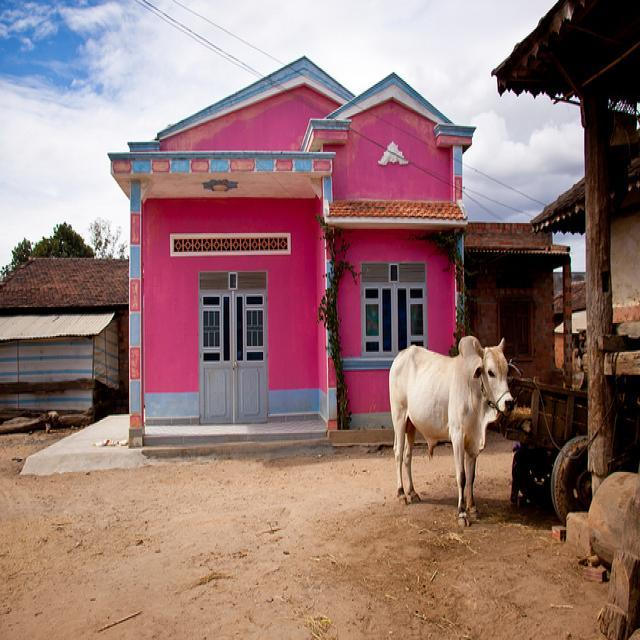cow: (387, 335, 513, 526)
